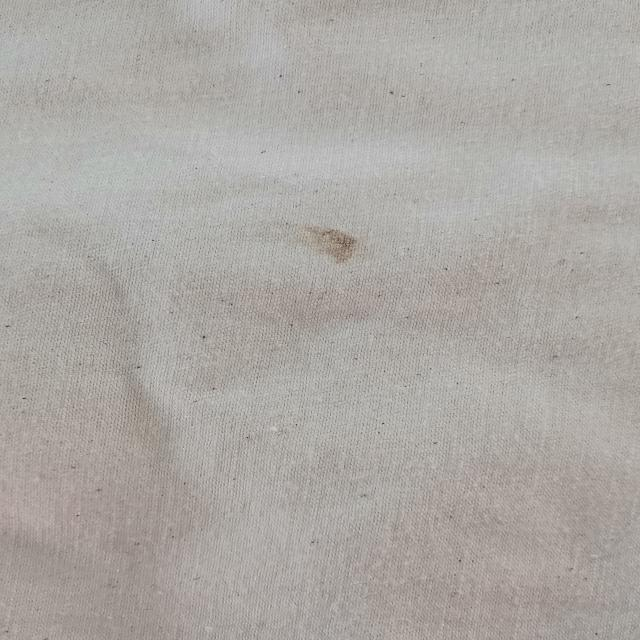taaaches: (261, 217, 377, 266)
